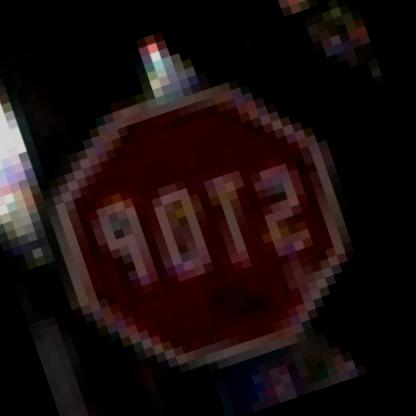stop: (25, 61, 383, 402)
